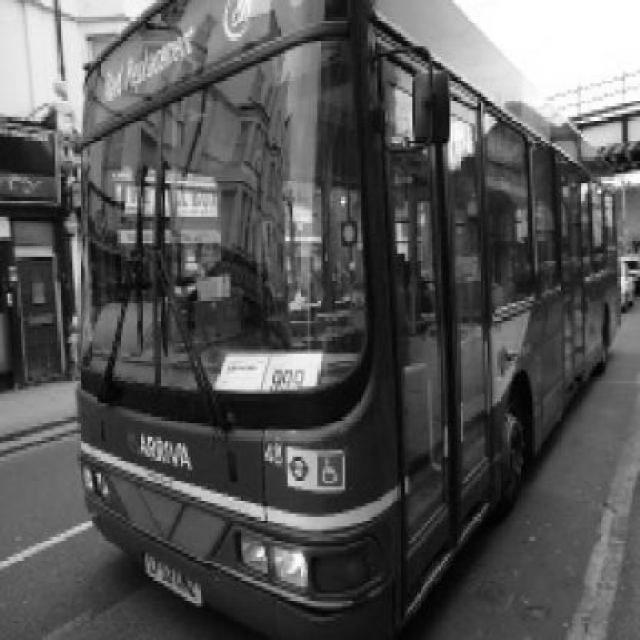Bus: (75, 0, 623, 640)
